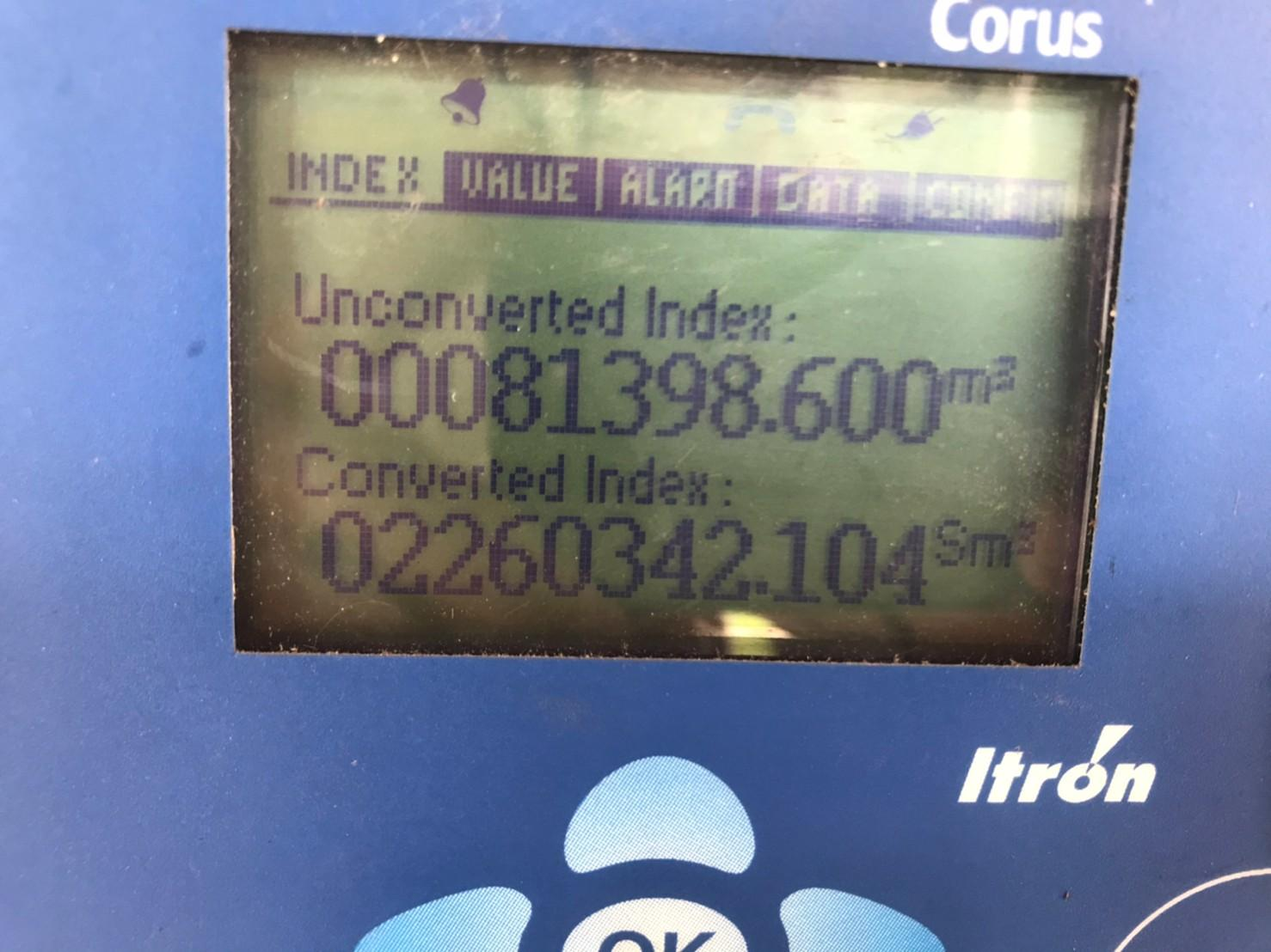digital_screen: (219, 31, 1138, 667)
